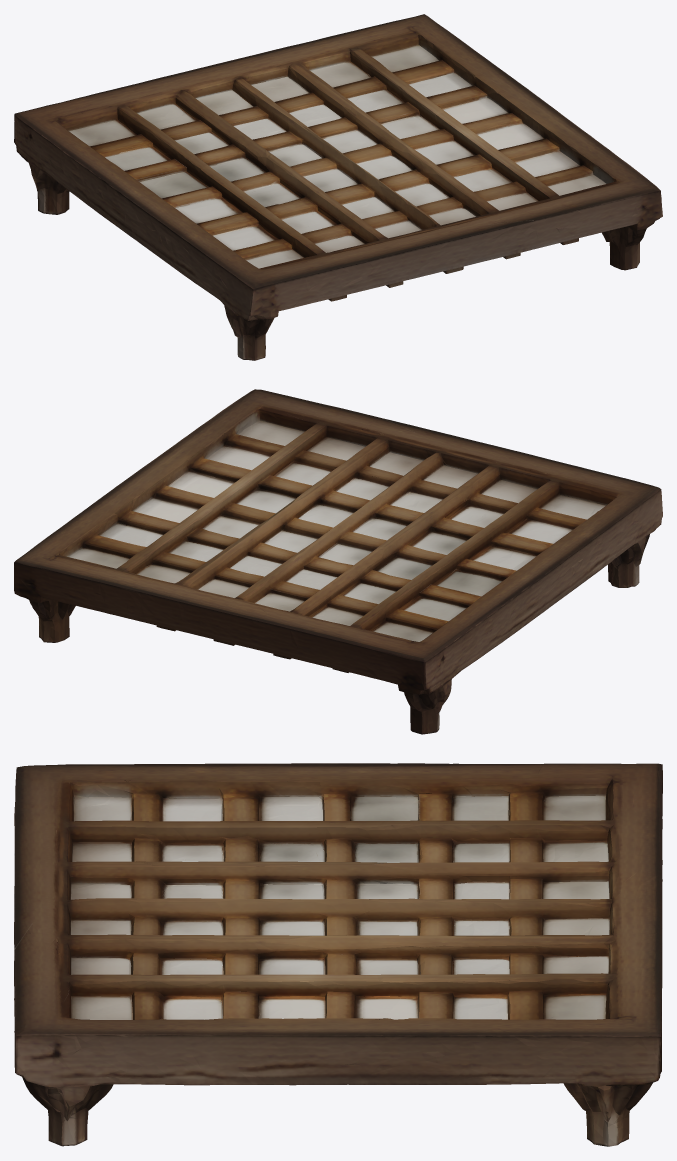
3 renders of one model, top to bottom at view 1: azimuth 30°, elevation 25°; view 2: azimuth 150°, elevation 25°; view 3: azimuth 270°, elevation 25°, orthographic. The views are drawn at different scales.
Visible parts, largest first — view 1: world; view 2: world; view 3: world.
Part boxes in pixels (x1,y1,x2,y2): world: (14, 14, 662, 360); world: (14, 389, 662, 734); world: (14, 763, 662, 1146).
Bounding box in the file's own units: 0.9993 × 0.1998 × 0.9982.
1 material, 1 textured.
